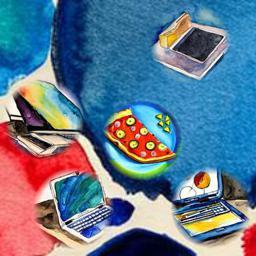something that can be eaten: (100, 108, 179, 166)
